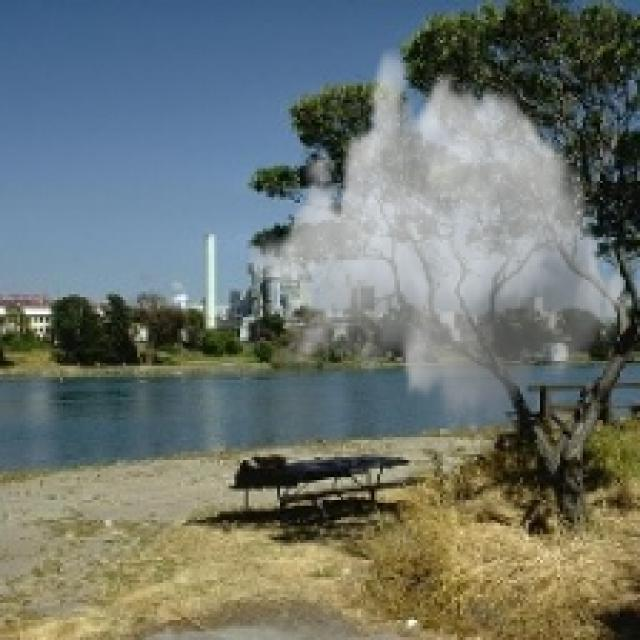smoke: (246, 43, 631, 440)
